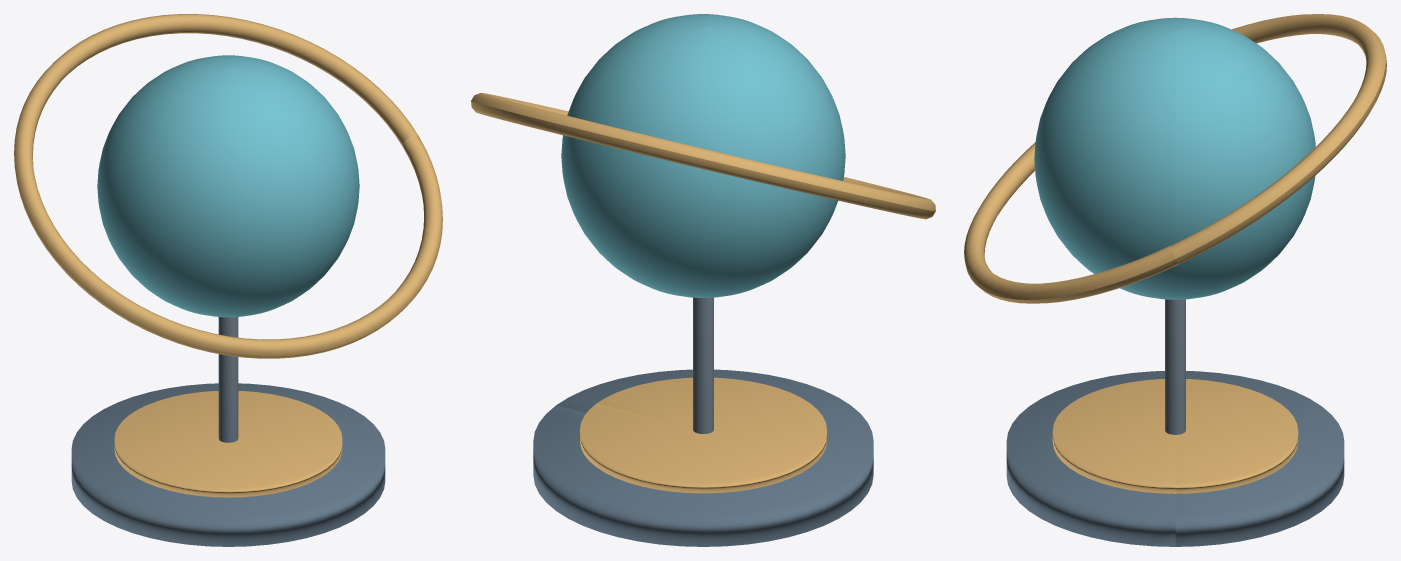
Rendered from orbital-study.gltf.
The picture shows the model from 3 angles, left to right: view 1: azimuth 30°, elevation 25°; view 2: azimuth 150°, elevation 25°; view 3: azimuth 270°, elevation 25°; orthographic projection. The views are drawn at different scales.
Parts seen in each view (by area): view 1: Glazed ceramic sphere, Slate plinth, Brushed brass orbit, Brass foot, Stem; view 2: Glazed ceramic sphere, Slate plinth, Brass foot, Brushed brass orbit, Stem; view 3: Glazed ceramic sphere, Slate plinth, Brass foot, Brushed brass orbit, Stem.
Boxes of the visible parts, left/top/right/bottom form: Glazed ceramic sphere: left=97, top=55, right=359, bottom=317; Slate plinth: left=71, top=383, right=385, bottom=546; Brushed brass orbit: left=14, top=14, right=442, bottom=358; Brass foot: left=114, top=391, right=342, bottom=497; Stem: left=218, top=317, right=238, bottom=442; Glazed ceramic sphere: left=561, top=14, right=845, bottom=297; Slate plinth: left=533, top=369, right=873, bottom=546; Brass foot: left=580, top=377, right=826, bottom=493; Brushed brass orbit: left=471, top=93, right=935, bottom=219; Stem: left=693, top=297, right=713, bottom=433; Glazed ceramic sphere: left=1034, top=17, right=1315, bottom=299; Slate plinth: left=1006, top=371, right=1344, bottom=546; Brass foot: left=1052, top=379, right=1298, bottom=493; Brushed brass orbit: left=964, top=14, right=1386, bottom=303; Stem: left=1165, top=299, right=1185, bottom=434.
Bounding box in the file's own units: 2.05 × 2.12 × 1.83.
